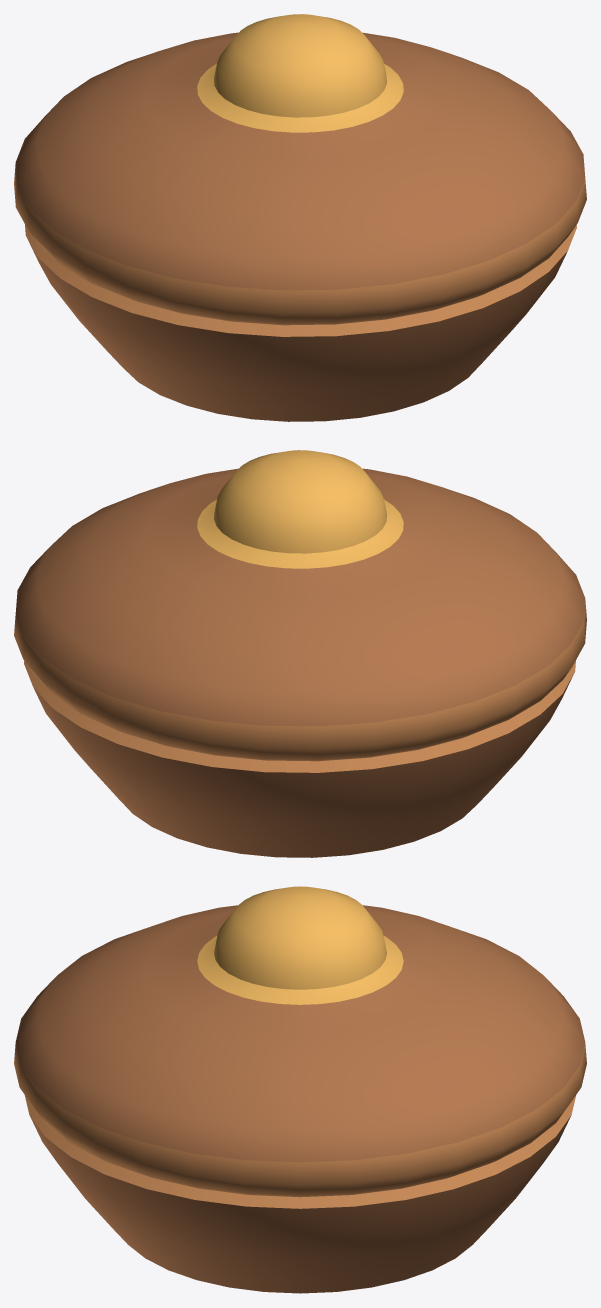
Rendered from Kethuk.fbx.
3 renders of one model, top to bottom at view 1: azimuth 30°, elevation 25°; view 2: azimuth 150°, elevation 25°; view 3: azimuth 270°, elevation 25°, orthographic.
Visible parts, largest first — view 1: Kethuk_Mesh; view 2: Kethuk_Mesh; view 3: Kethuk_Mesh.
Boxes of the visible parts, bbox=[...] form: Kethuk_Mesh: bbox=[14, 14, 586, 421]; Kethuk_Mesh: bbox=[14, 450, 586, 857]; Kethuk_Mesh: bbox=[14, 886, 586, 1293].
Size of the model in its own units: 0.1926 by 0.118 by 0.1926.
